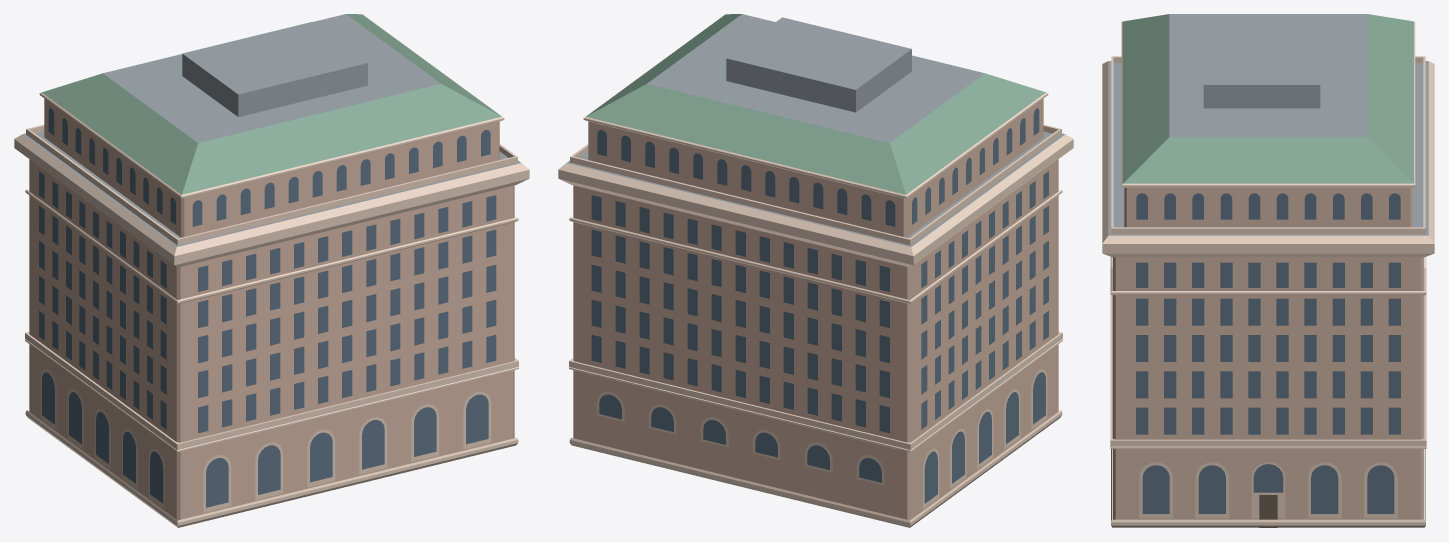
The model's file is cle-federal-reserve-bank.glb.
3 renders of one model, left to right at view 1: azimuth 30°, elevation 25°; view 2: azimuth 150°, elevation 25°; view 3: azimuth 270°, elevation 25°, orthographic. The views are drawn at different scales.
Visible parts, largest first — view 1: Federal Reserve Bank of Cleveland; view 2: Federal Reserve Bank of Cleveland; view 3: Federal Reserve Bank of Cleveland.
Part boxes in pixels (x1,y1,x2,y2): Federal Reserve Bank of Cleveland: (14, 14, 529, 527); Federal Reserve Bank of Cleveland: (558, 14, 1073, 527); Federal Reserve Bank of Cleveland: (1102, 14, 1434, 527).
Bounding box in the file's own units: 65.8 × 66.5 × 51.4.
